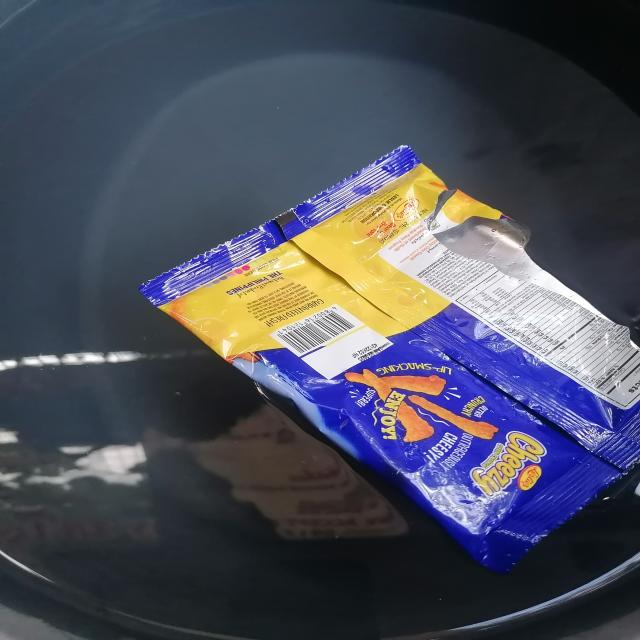Plastic Wrapper: (141, 147, 640, 571)
